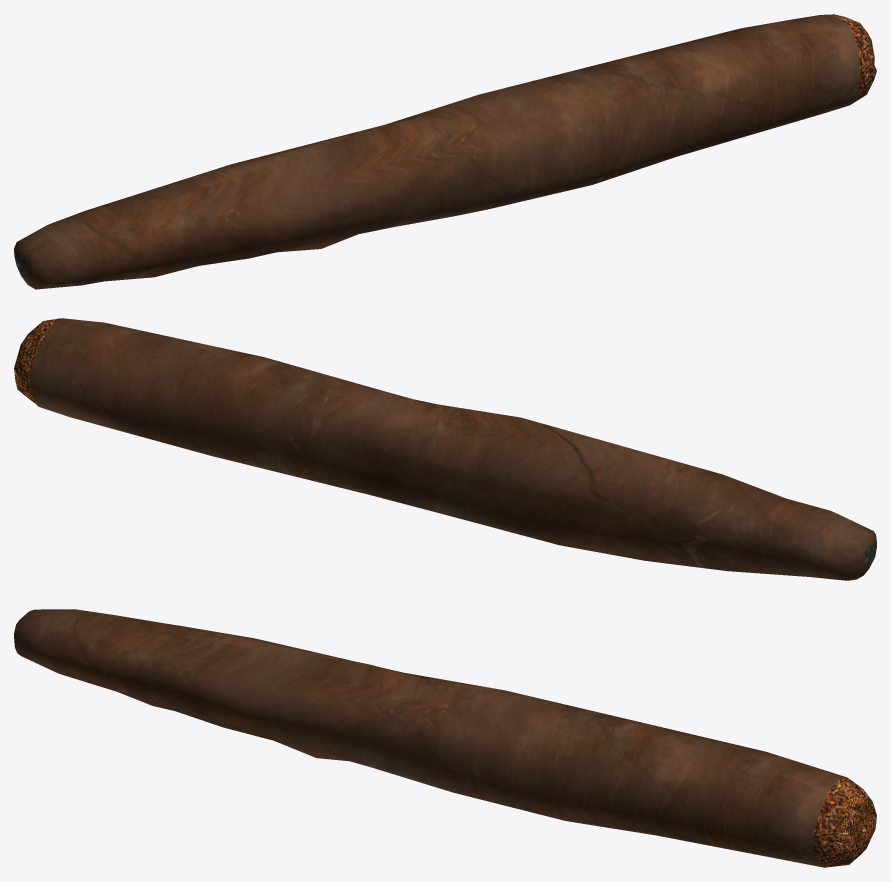
File: Blunt.fbx
3 renders of one model, top to bottom at view 1: azimuth 30°, elevation 25°; view 2: azimuth 150°, elevation 25°; view 3: azimuth 330°, elevation 25°, orthographic.
Parts seen in each view (by area): view 1: Cylinder; view 2: Cylinder; view 3: Cylinder.
Part boxes in pixels (x1,y1,x2,y2): Cylinder: [14, 14, 876, 289]; Cylinder: [14, 318, 876, 580]; Cylinder: [14, 609, 876, 867].
Bounding box in the file's own units: 0.1174 × 0.0146 × 0.0144.
